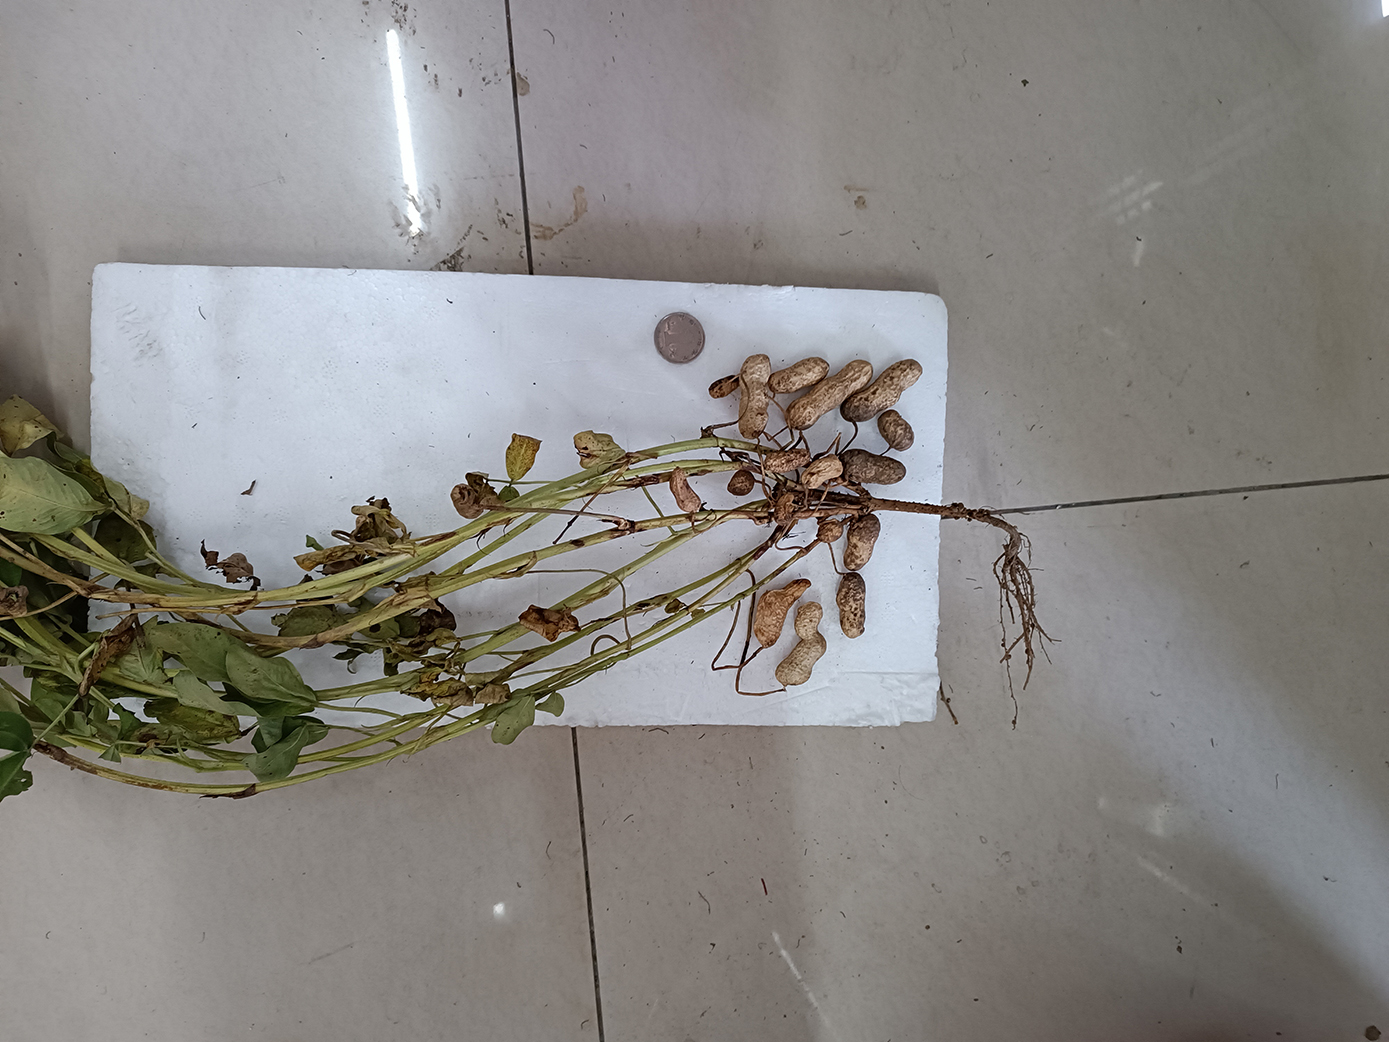h: (785, 359, 875, 429), (841, 359, 924, 419), (753, 578, 812, 648), (777, 603, 825, 686), (739, 354, 772, 439), (835, 574, 872, 639), (771, 357, 827, 395), (670, 467, 705, 517), (879, 410, 916, 450), (803, 456, 842, 488), (764, 449, 810, 473), (709, 375, 740, 400), (818, 520, 843, 545)
l: (838, 449, 907, 487), (726, 470, 755, 495)
